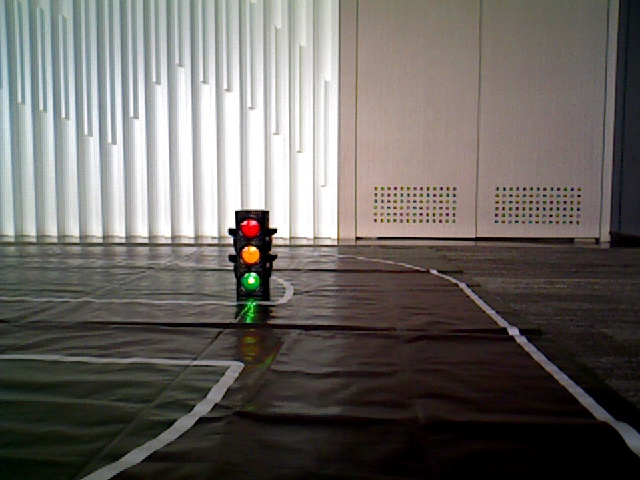green: (235, 213, 270, 291)
